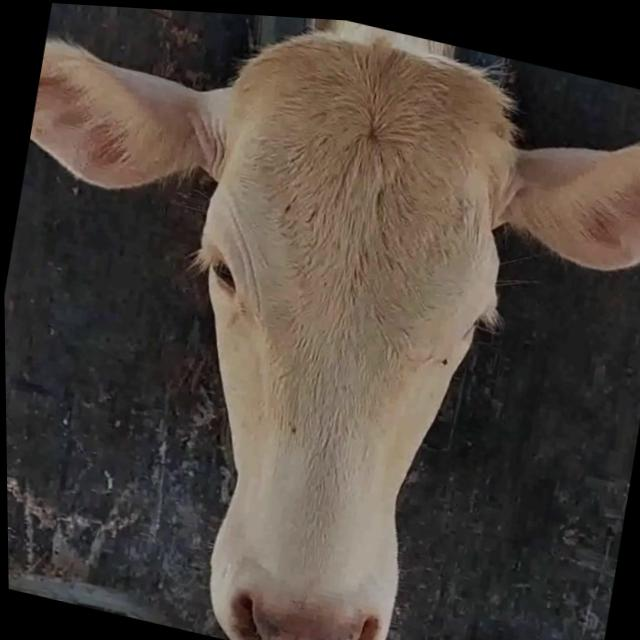cowFace: (127, 6, 541, 640)
